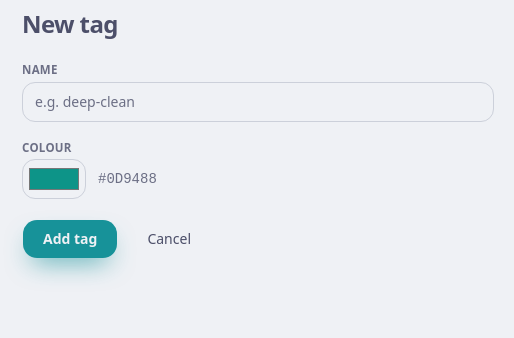
Test case: TagCreate › surfaces a duplicate-name error and stays on the form
The width and height of the screenshot is (514, 338).
Type "shared" into the field labelled "Name" at (258, 102), box [22,82,494,122]
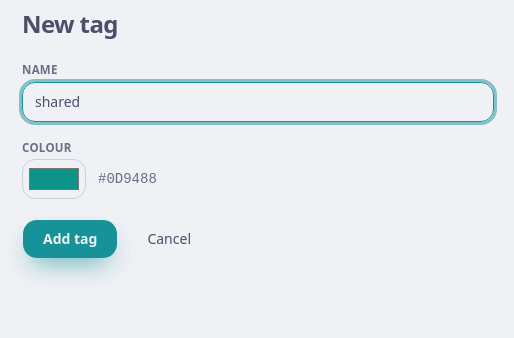
Click the button "Add tag" at (70, 239), box [22,219,118,259]
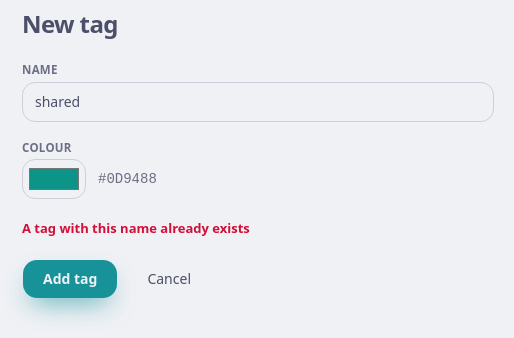
Expected: the text "A tag with this name already exists" is shown, [22,219,250,237]
